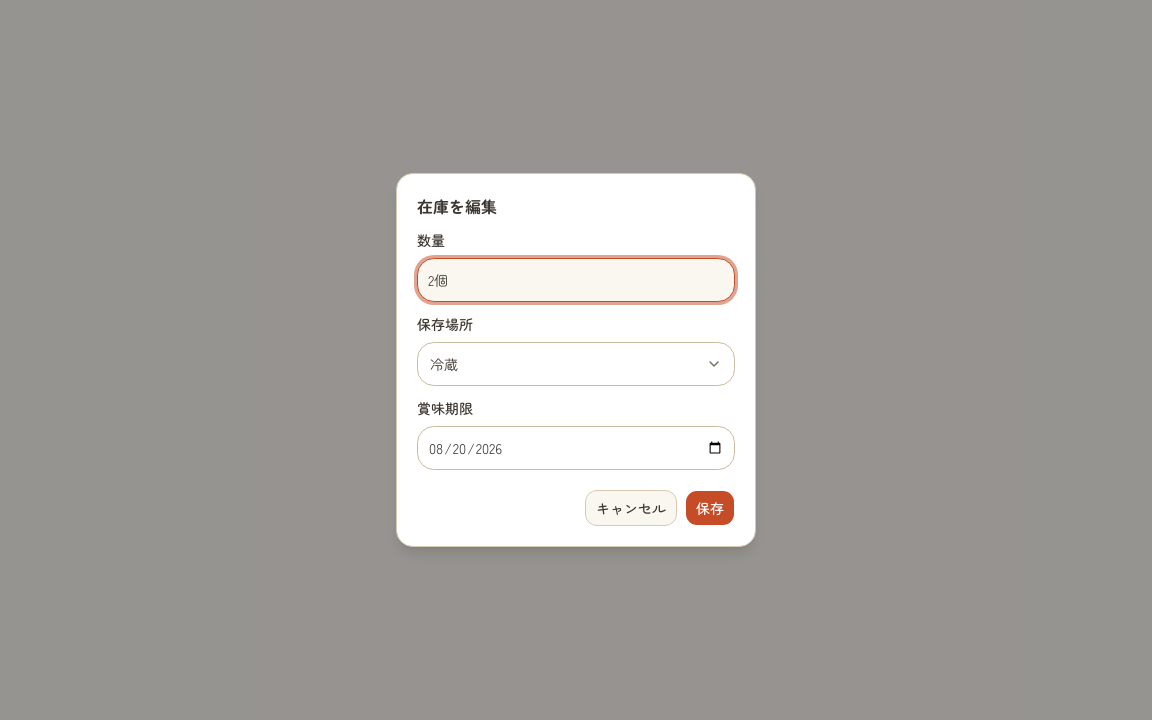
StockEditDialog › SED-06: 422 のエラーを fieldErrors に反映する
Check: the field showing "2個" is shown, box left=417, top=258, right=735, bottom=302
Click the button "保存" at (710, 508), box left=685, top=490, right=735, bottom=526
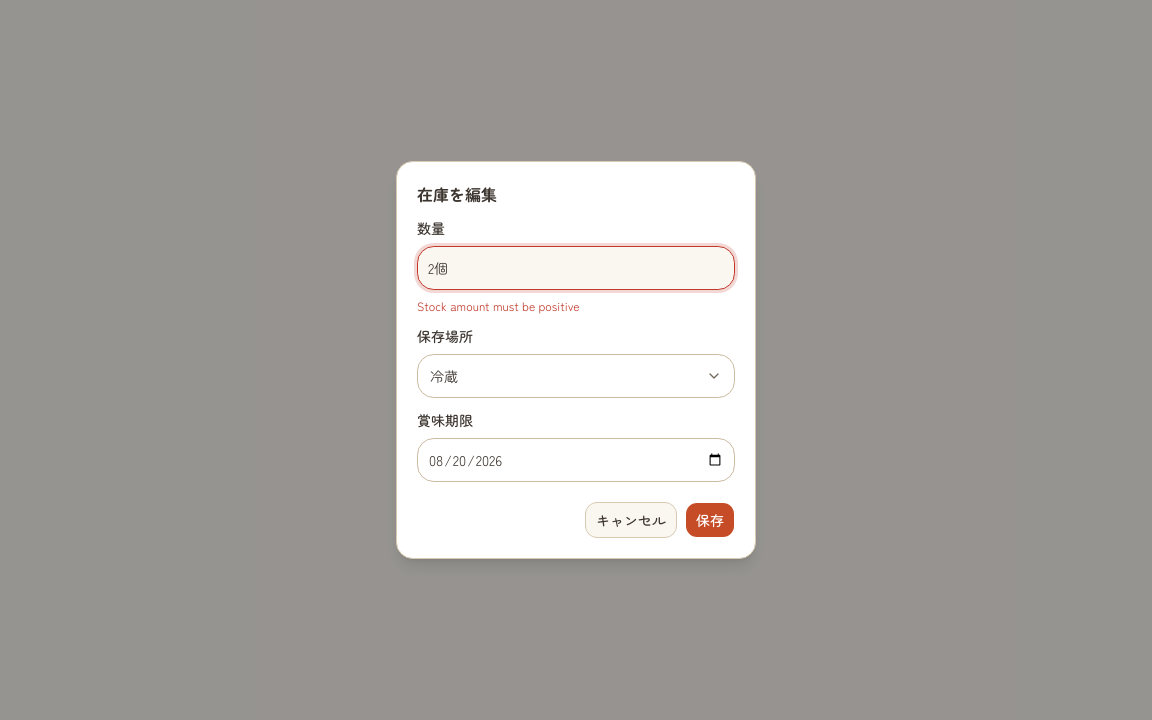
Check: the text "Stock amount must be positive" is shown, box left=417, top=297, right=579, bottom=314
